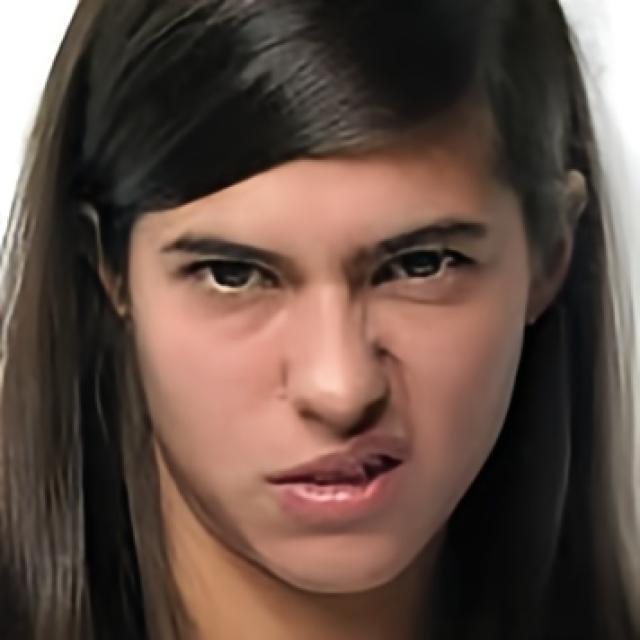disgust: (130, 55, 530, 595)
